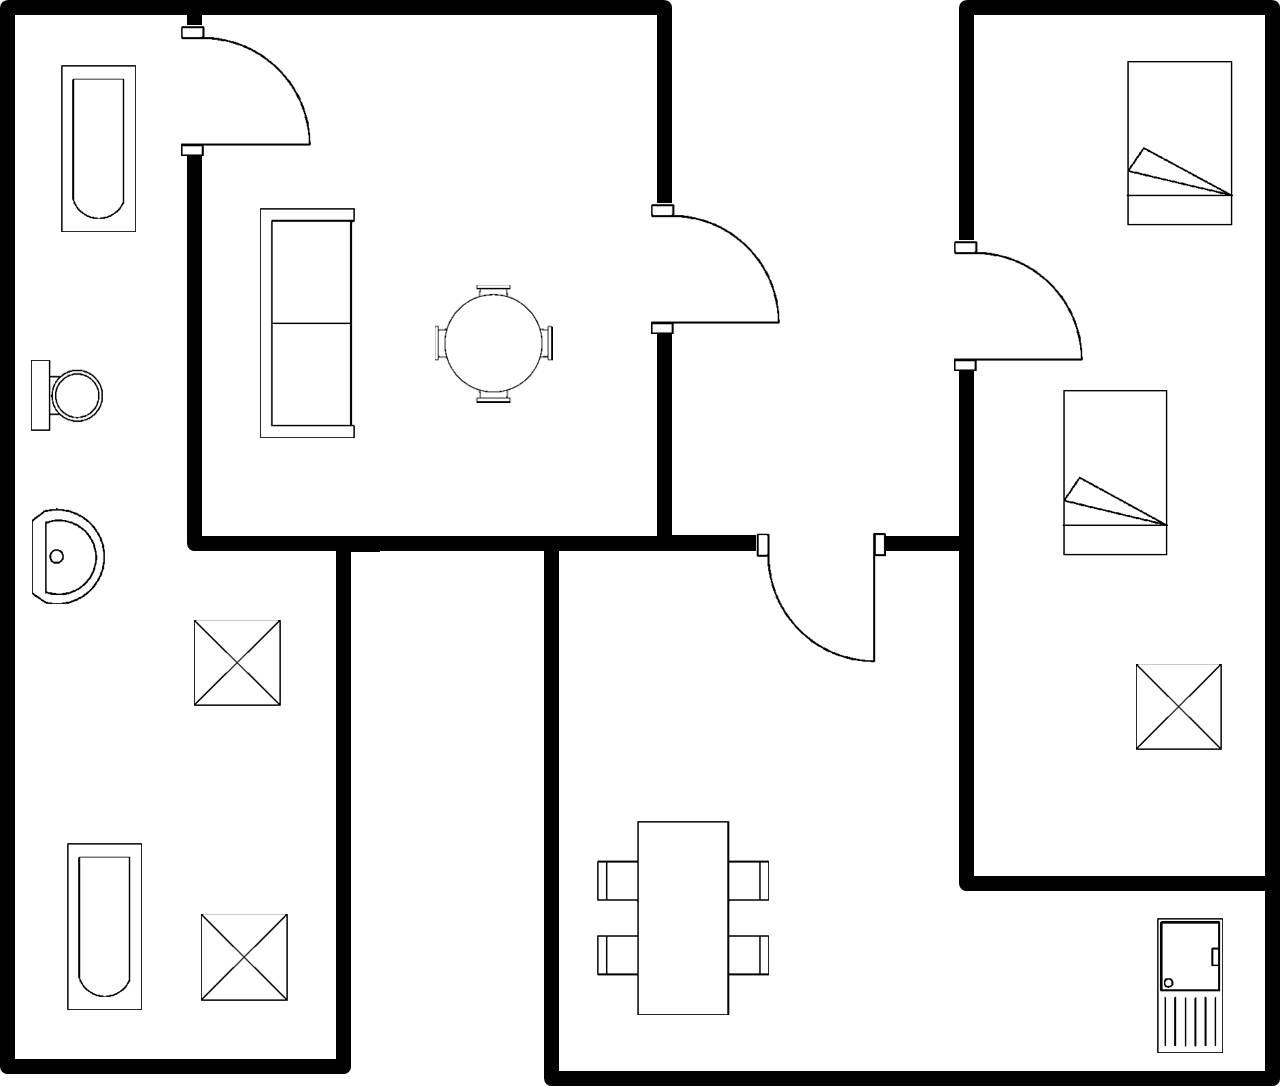bed: (1116, 52, 1244, 234), (1055, 381, 1177, 563)
coffee_table: (1123, 656, 1235, 758), (192, 906, 297, 1010), (189, 608, 289, 715)
dining_table: (589, 807, 780, 1023)
large_sink: (23, 352, 111, 441)
large_sofa: (251, 199, 363, 446)
round_table: (423, 275, 563, 413)
sink: (1149, 910, 1232, 1062)
small_sink: (25, 503, 112, 613)
tub: (54, 57, 148, 239), (59, 834, 151, 1018)
